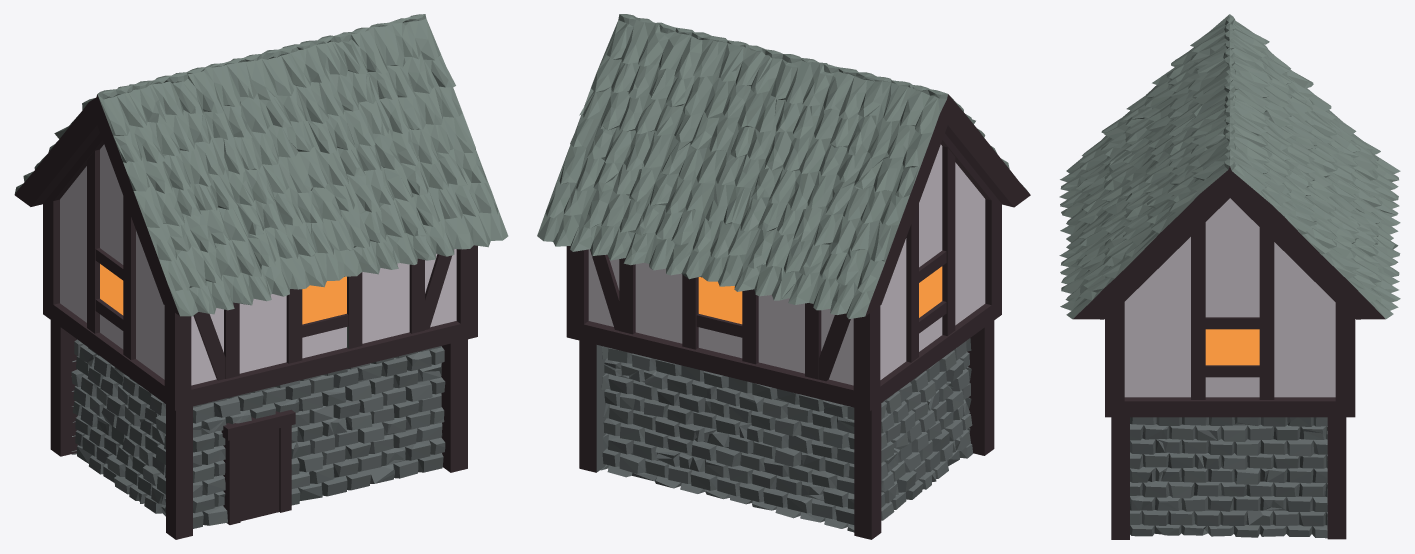
Rendered from spooky_town_house1.gltf.
3 views of the same model, side by side, from view 1: azimuth 30°, elevation 25°; view 2: azimuth 150°, elevation 25°; view 3: azimuth 270°, elevation 25° (orthographic). The views are drawn at different scales.
Visible parts, largest first — view 1: Cube; view 2: Cube; view 3: Cube.
Boxes of the visible parts, x1=… form: Cube: x1=14, y1=14, x2=508, y2=539; Cube: x1=537, y1=14, x2=1030, y2=539; Cube: x1=1059, y1=14, x2=1400, y2=539.
Bounding box in the file's own units: 15.56 × 18.45 × 14.79.
